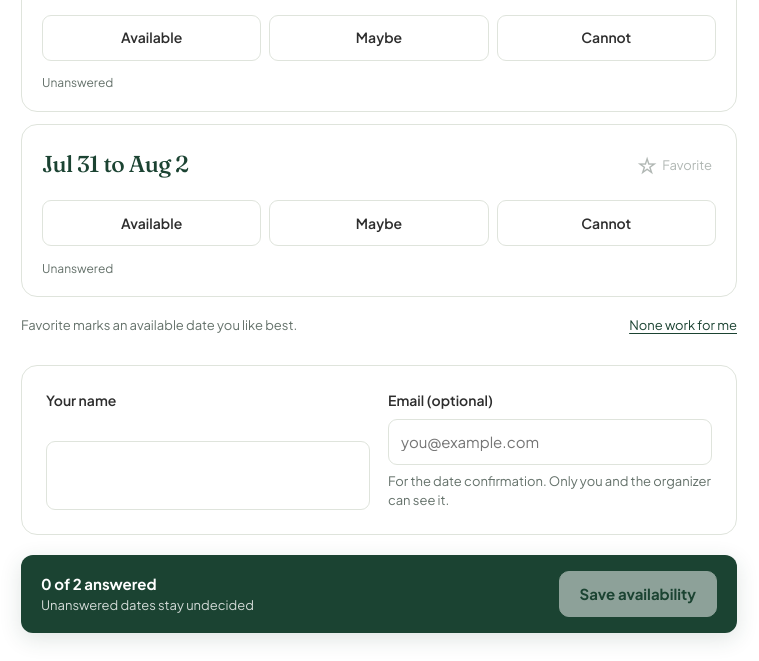
Test: JoinFlow › explains a malformed email itself rather than sending it and relaying a generic error
This screenshot has width=759, height=661.
(page scrolled)
Type "Alex" into the field labelled "Your name" at x=208, y=476, box [46, 442, 370, 510]
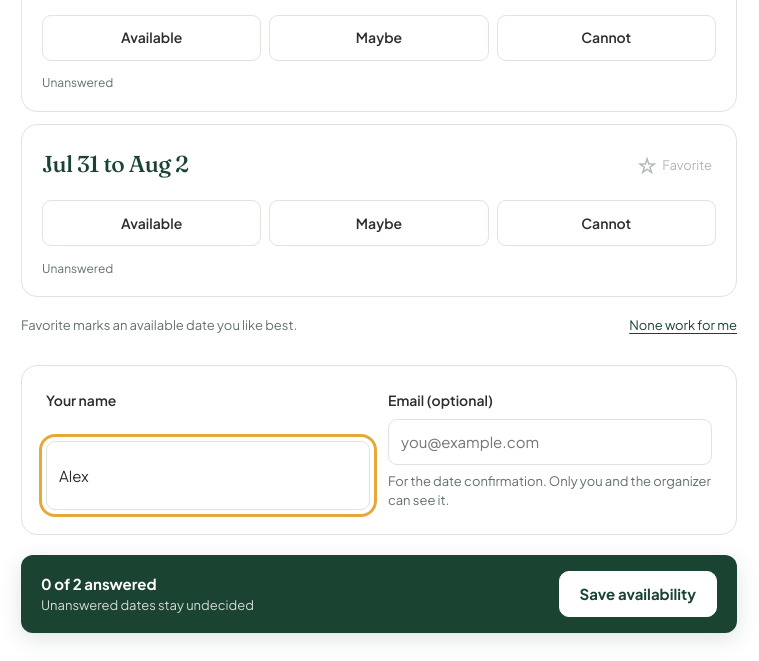
Type "brett@gmial" into the field labelled "Email (optional)" at x=550, y=442, box [388, 419, 712, 465]
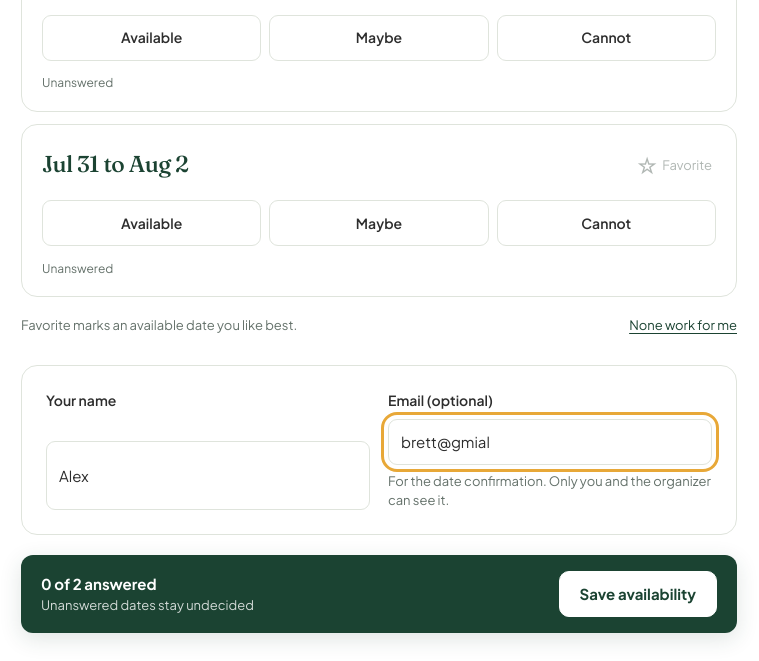
Click the button "Save availability" at x=638, y=594, box [558, 571, 717, 617]
(page scrolled)
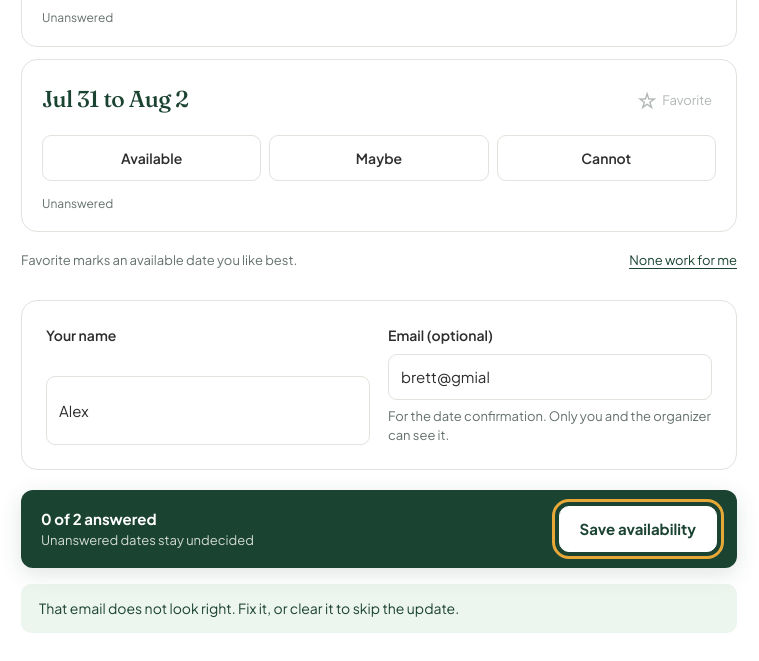
Expected: the text "That email does not look right. Fix it, or clear it to skip the update." is shown, [21, 584, 737, 634]
